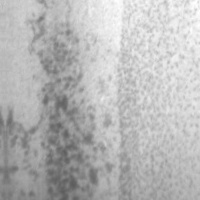pitted_surface: (4, 0, 110, 199), (112, 0, 199, 199)
